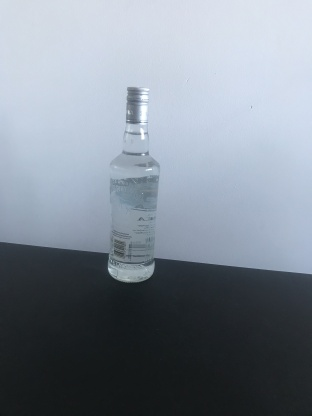nakretka: (124, 84, 151, 125)
